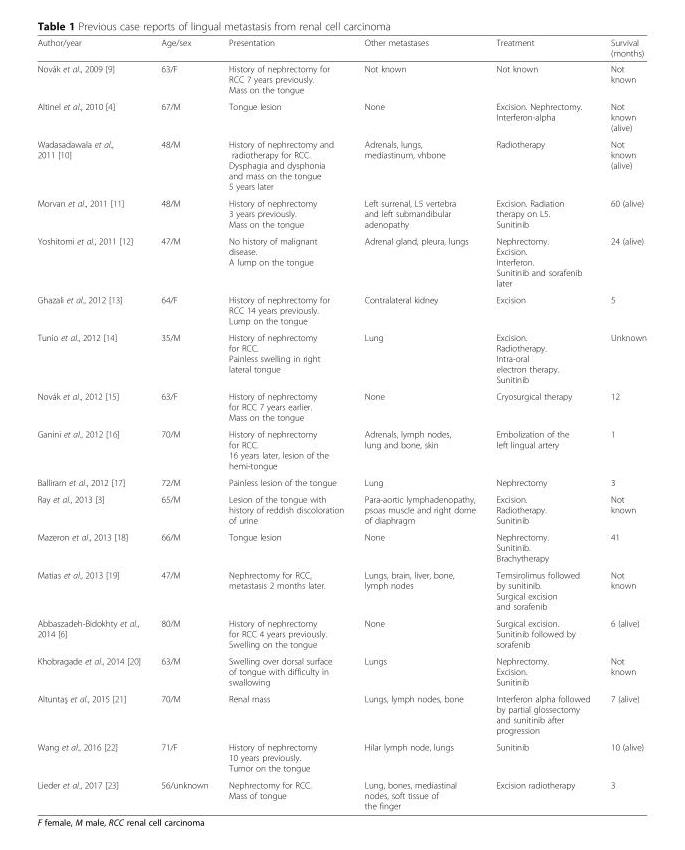table: (36, 37, 645, 810)
table column: (217, 37, 353, 810), (353, 37, 485, 810), (36, 37, 150, 810), (485, 37, 599, 810), (150, 37, 217, 810), (599, 37, 645, 810)
table column header: (36, 37, 645, 60)
table row: (36, 135, 645, 194), (36, 328, 645, 387), (36, 232, 645, 290), (36, 689, 645, 738), (36, 425, 645, 473), (36, 566, 645, 614), (36, 97, 645, 135), (36, 194, 645, 232), (36, 290, 645, 328), (36, 387, 645, 425), (36, 490, 645, 528), (36, 528, 645, 566), (36, 614, 645, 652), (36, 738, 645, 776), (36, 60, 645, 97), (36, 652, 645, 689), (36, 776, 645, 810), (36, 37, 645, 60), (36, 473, 645, 490)
